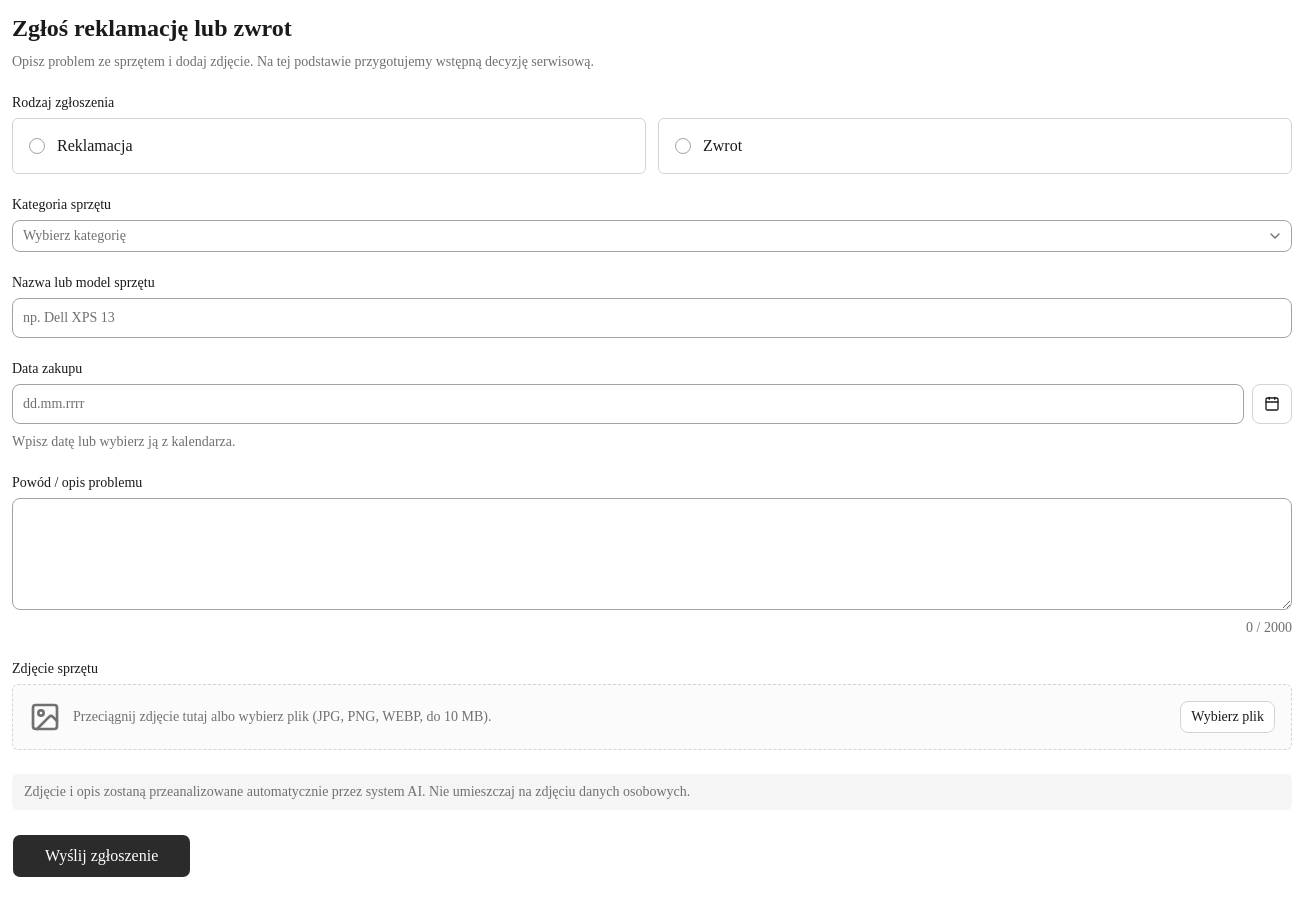
it: AI notice and submit (AC-11, AC-12) › does not submit an empty form, shows every message and focuses the first invalid field (AC-12)
What coordinates should you click on to do the following:
click the button "Wyślij zgłoszenie"
I would click on:
 (102, 856)
Its box is [12,834,191,878].
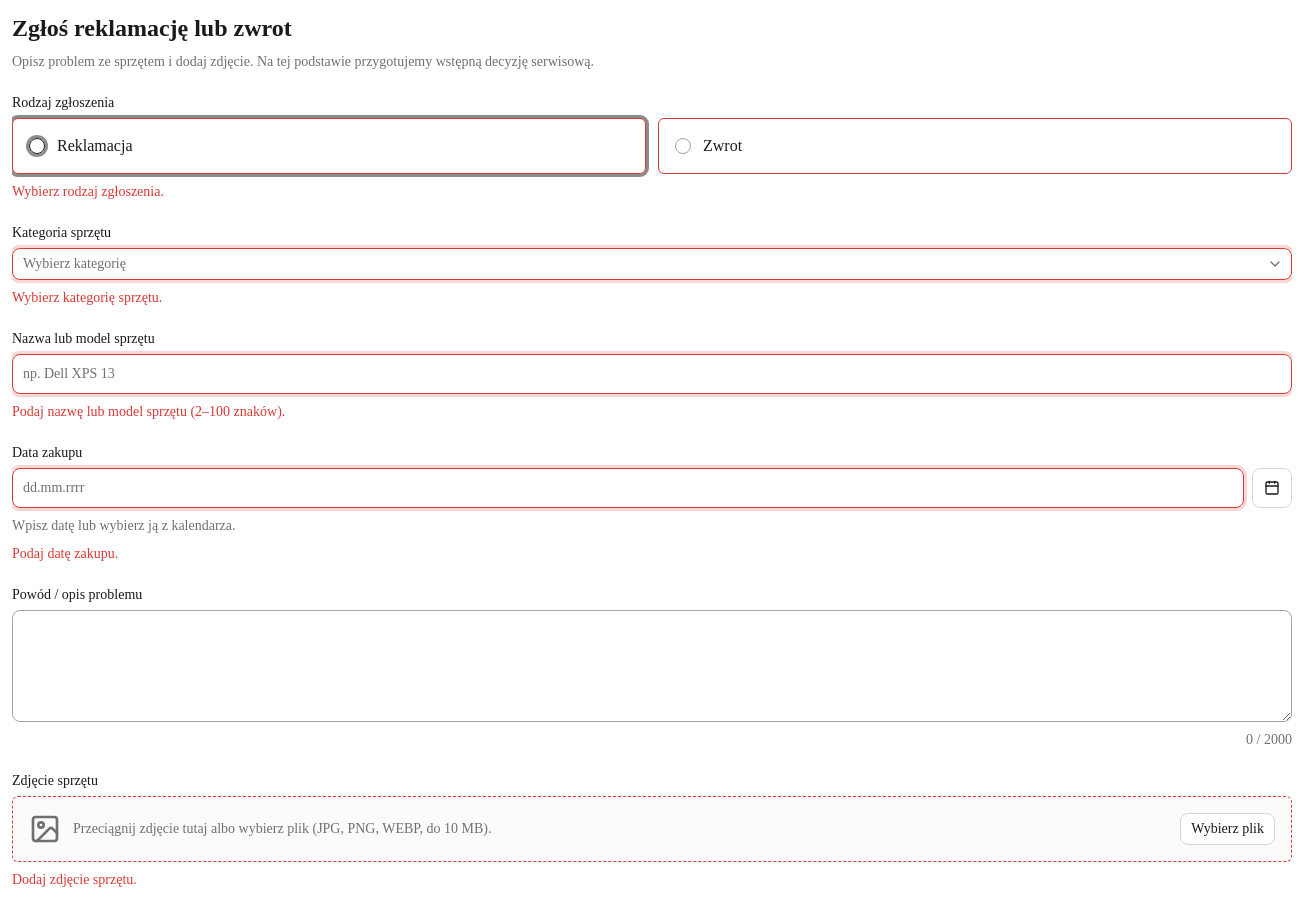
Expected: the text "Wybierz rodzaj zgłoszenia." is shown, [12,184,164,199]
Expected: the text "Wybierz kategorię sprzętu." is shown, [12,290,162,305]
Expected: the text "Podaj nazwę lub model sprzętu (2–100 znaków)." is shown, [12,404,285,419]
